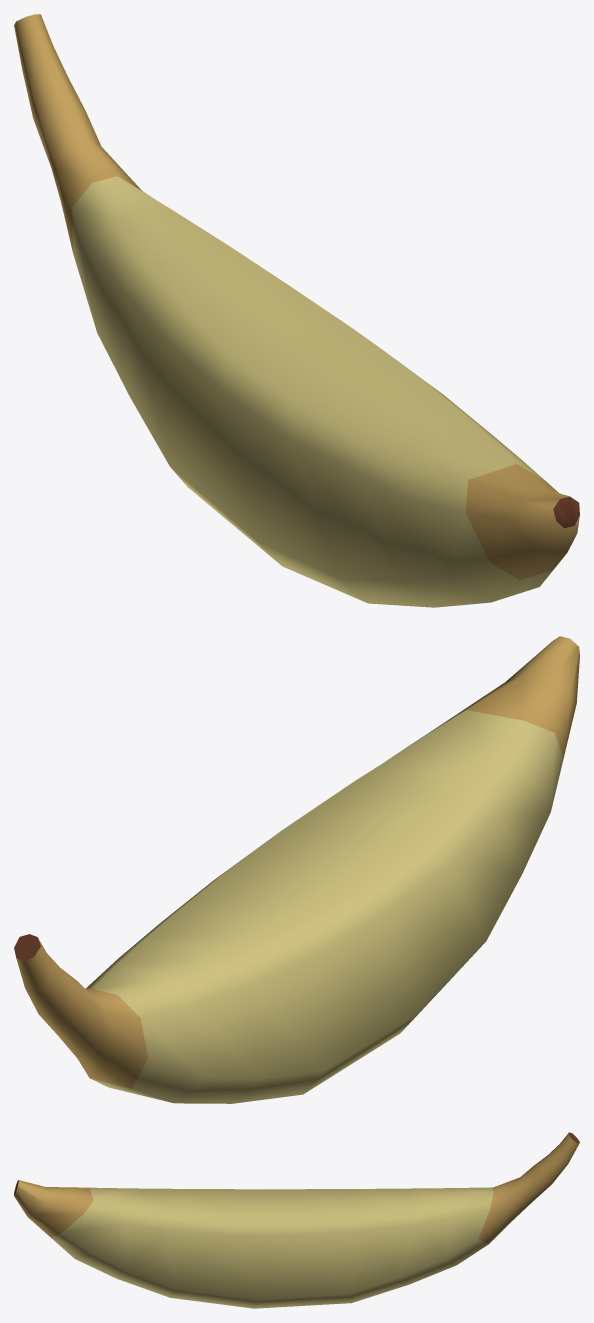
Rendered from Banan.fbx.
3 renders of one model, top to bottom at view 1: azimuth 30°, elevation 25°; view 2: azimuth 150°, elevation 25°; view 3: azimuth 270°, elevation 25°, orthographic. The views are drawn at different scales.
Visible parts, largest first — view 1: Bannan; view 2: Bannan; view 3: Bannan.
Part boxes in pixels (x1=…): Bannan: x1=14, y1=14, x2=579, y2=607; Bannan: x1=14, y1=636, x2=579, y2=1103; Bannan: x1=14, y1=1132, x2=579, y2=1308.
Size of the model in its own units: 0.1139 by 0.2085 by 0.6667.
